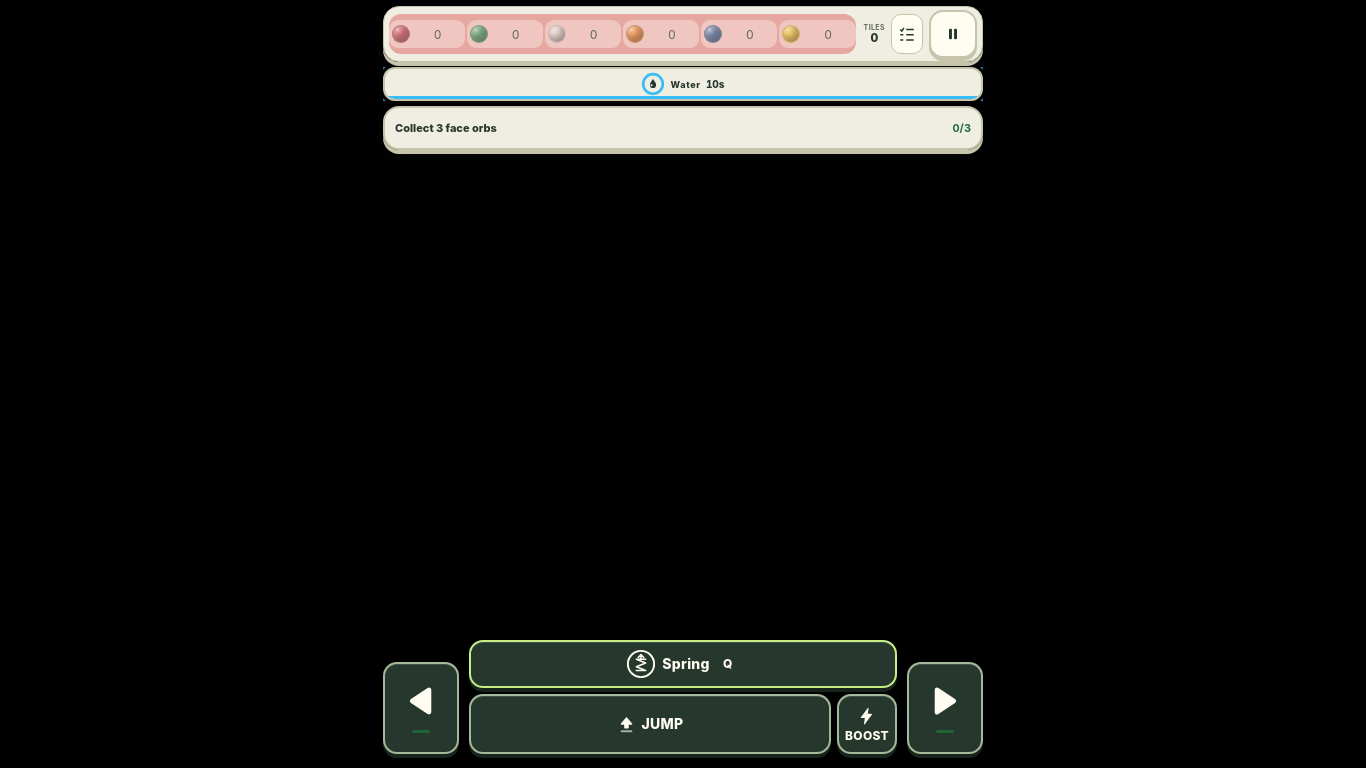
Test: does not replay a power announcement or open a dialog after a tunnel (water, null)
Click the button with class "worm-buff-chip" at (683, 84), box [383, 67, 983, 101]
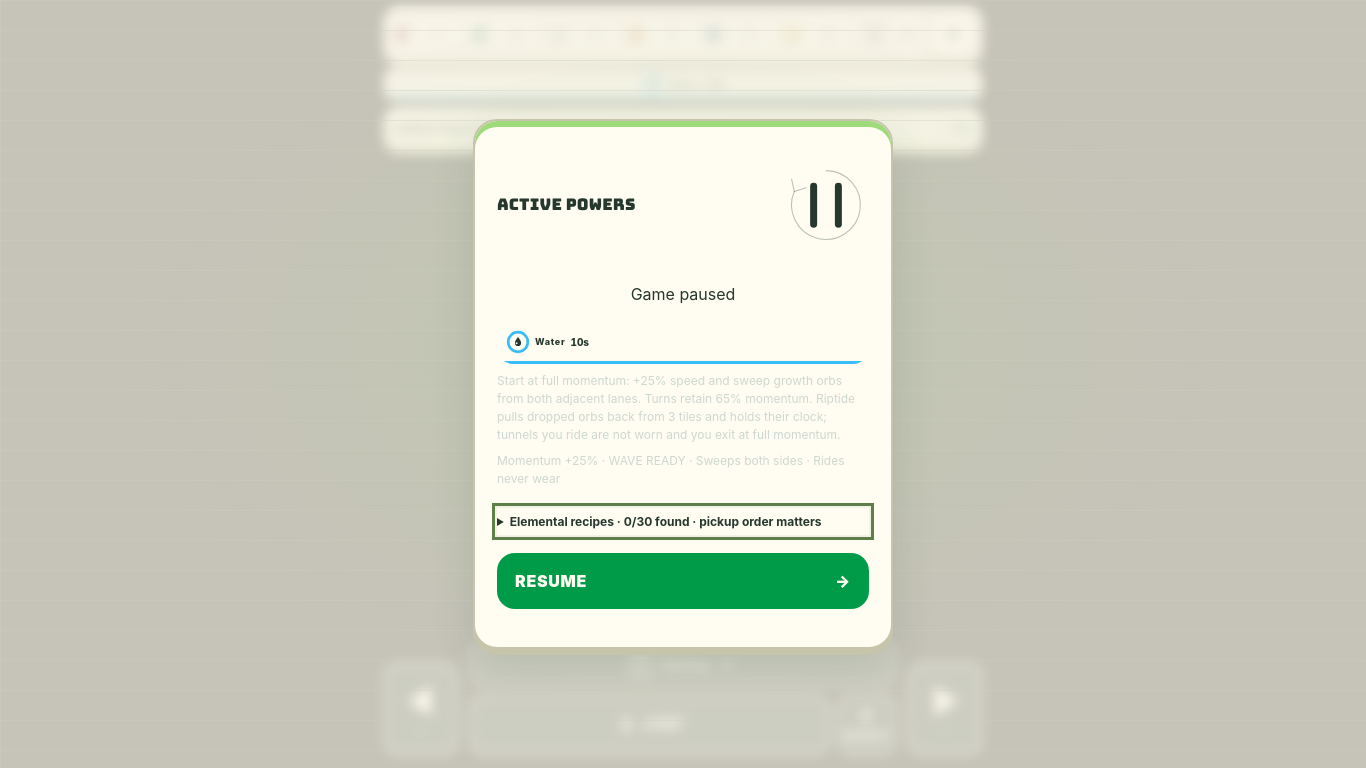
Expected: the dialog with class "worm-power-info" is shown
Expected: the dialog with class "worm-power-info" shows "Water", [497, 320, 869, 364]
Press Escape in the dialog with class "worm-power-info", box [473, 119, 893, 649]
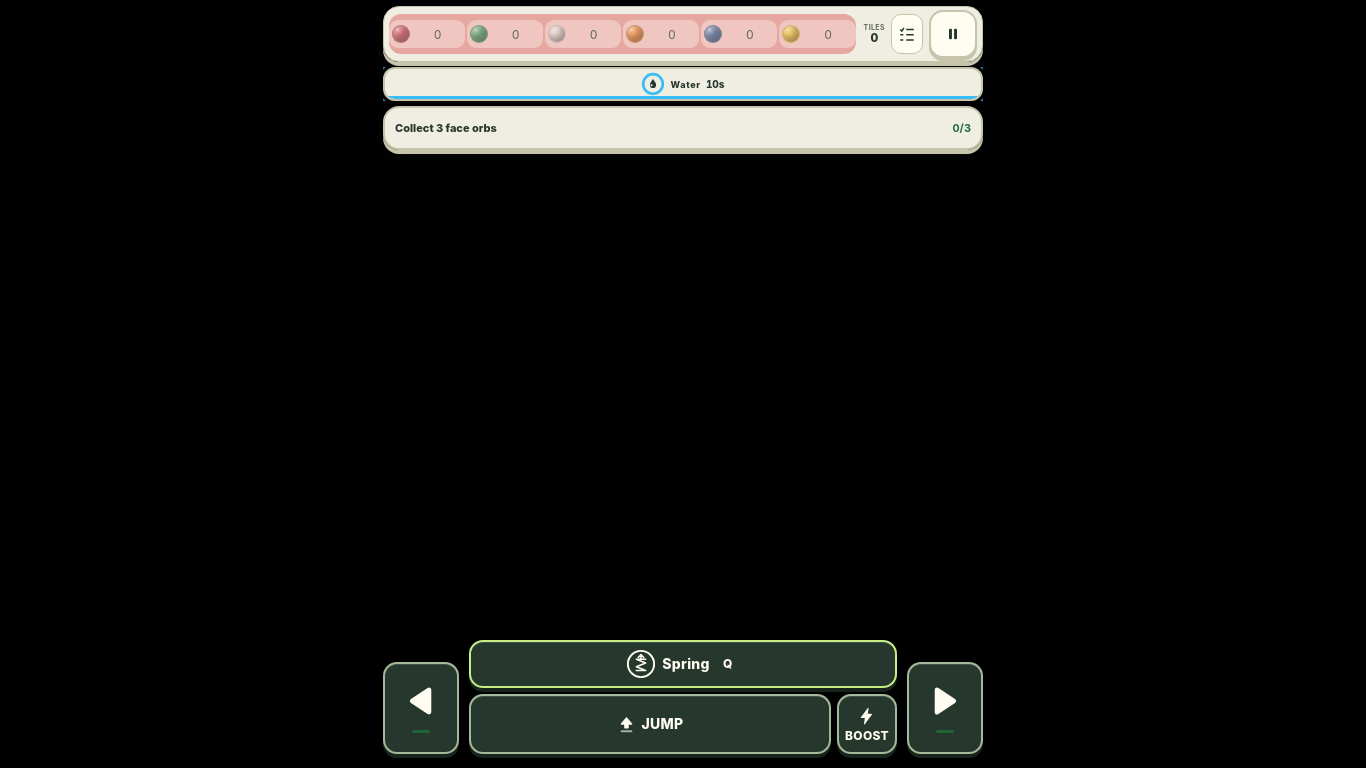
Expected: the dialog is gone
